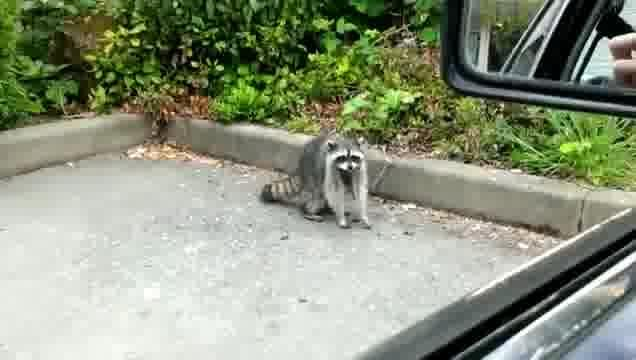raccoon: (262, 135, 373, 231)
